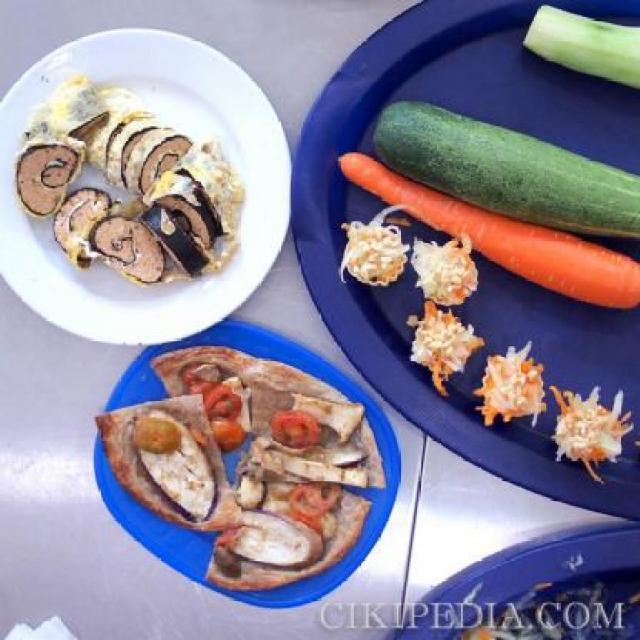Zucchini: (390, 83, 632, 260)
